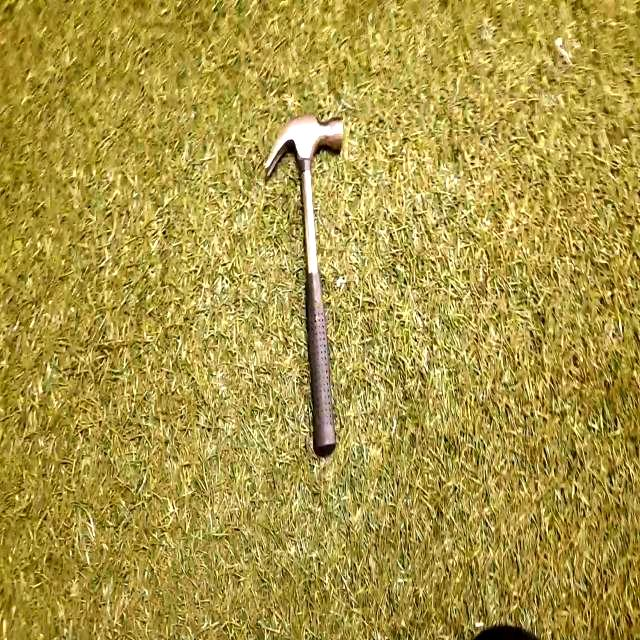hammer: (258, 110, 346, 453)
